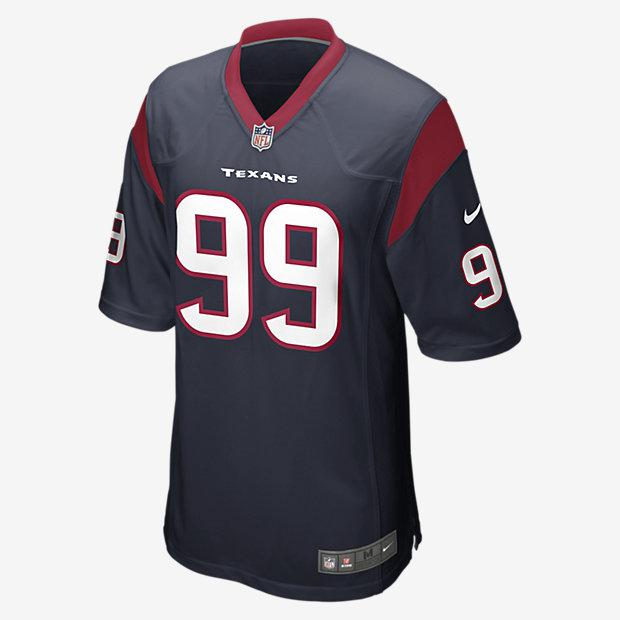teeshirt: (89, 17, 540, 620)
